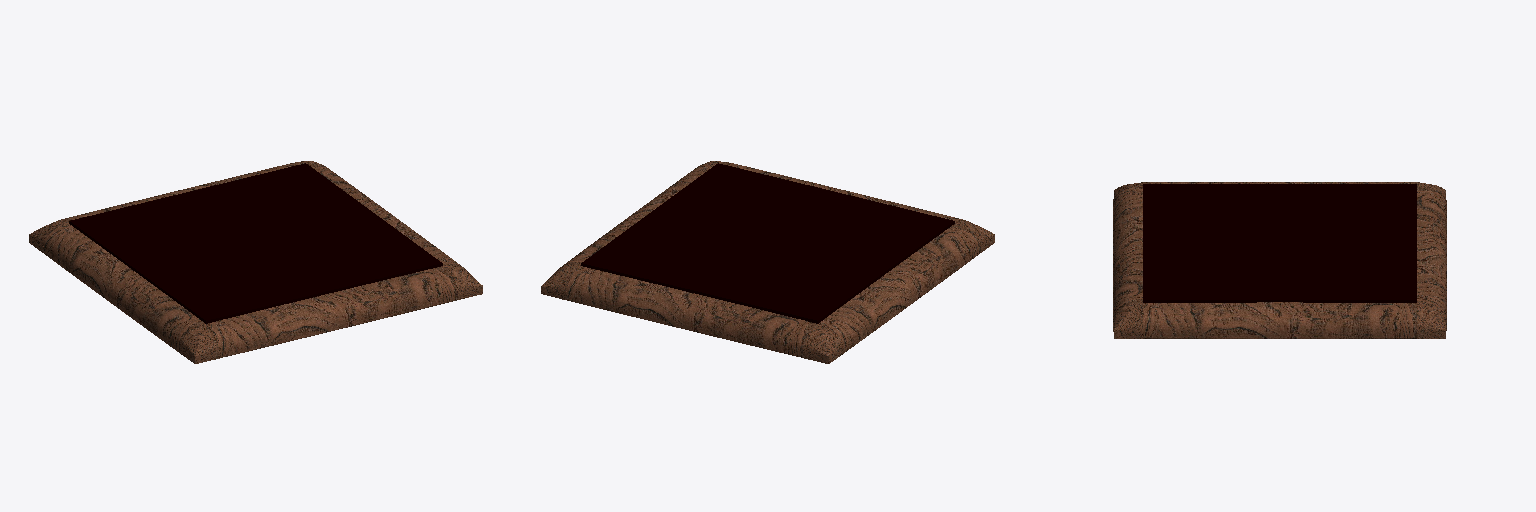
The picture shows the model from 3 angles: view 1: azimuth 30°, elevation 25°; view 2: azimuth 150°, elevation 25°; view 3: azimuth 270°, elevation 25°; orthographic projection.
Parts seen in each view (by area): view 1: s.0073, p.0109, s.0112; view 2: s.0073, p.0109, s.0112; view 3: s.0073, p.0109, s.0112.
Boxes of the visible parts, x1=… form: s.0073: x1=69, y1=163, x2=442, y2=323; p.0109: x1=43, y1=162, x2=459, y2=357; s.0112: x1=29, y1=161, x2=482, y2=363; s.0073: x1=581, y1=163, x2=954, y2=323; p.0109: x1=563, y1=162, x2=980, y2=357; s.0112: x1=541, y1=161, x2=994, y2=363; s.0073: x1=1143, y1=184, x2=1416, y2=302; p.0109: x1=1113, y1=182, x2=1446, y2=338; s.0112: x1=1113, y1=182, x2=1446, y2=338.
Size of the model in its own units: 0.9519 by 0.088 by 0.9519.
Materials: 2 (2 with a texture image).